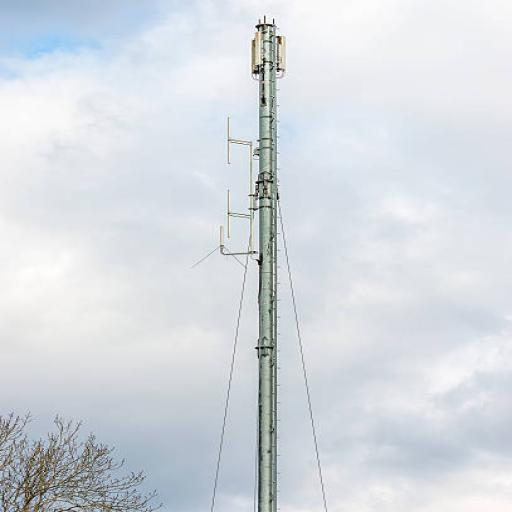monopole_tower: (194, 16, 324, 512)
